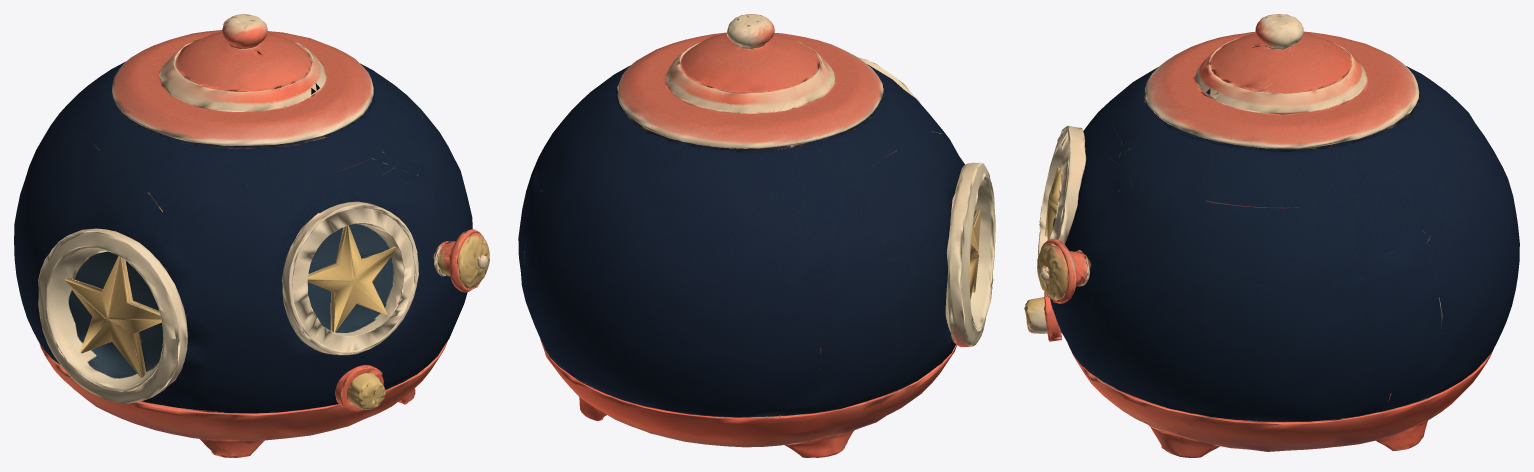
File: CometKiln_Textured.fbx
The picture shows the model from 3 angles, left to right: view 1: azimuth 30°, elevation 25°; view 2: azimuth 150°, elevation 25°; view 3: azimuth 270°, elevation 25°; orthographic projection. The views are drawn at different scales.
Visible parts, largest first — view 1: Mesh_0; view 2: Mesh_0; view 3: Mesh_0.
Boxes of the visible parts, box(x1,y1,x2,y2) form: Mesh_0: box(14, 14, 489, 457); Mesh_0: box(518, 14, 995, 457); Mesh_0: box(1024, 14, 1519, 457).
Size of the model in its own units: 92.63 by 79.79 by 95.12.
1 material, 1 textured.
